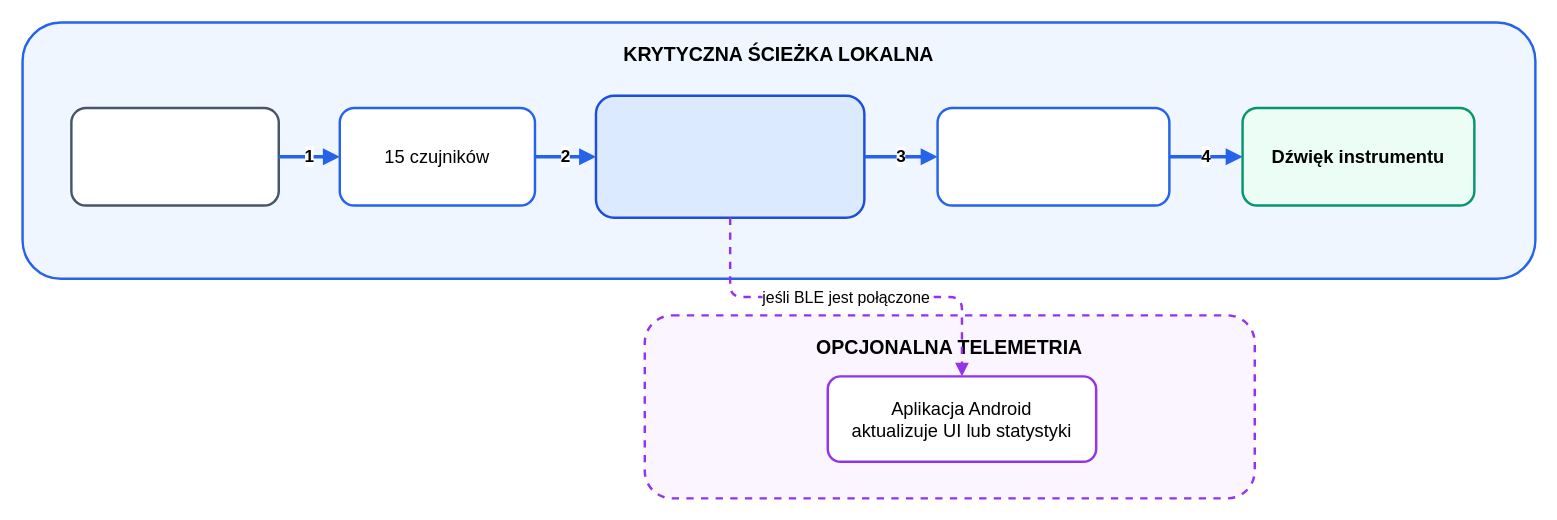
This 1557x520 diagram has some shape labels left out. Here are the shapes that lost their labels. From the top down, the centre of each, then its label:
At pixel 174 156: "Użytkownik przerywa wiązkę".
At pixel 729 156: "STM32WB55 filtruje i identyfikuje StringId".
At pixel 1053 156: "Podsystem audio uruchamia dźwięk".
